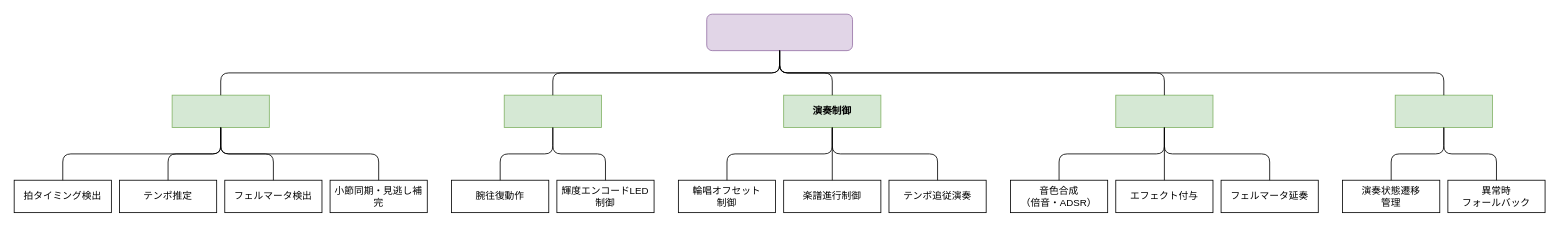
The diagram is 1559 pixels wide and 227 high, and some of its shapes have lost their labels. The box of each missing label's shape, as (x1, y1, x2, y2) in pixels:
Arduinoオーケストラシステム: (706, 13, 853, 51)
指揮動作検出: (171, 94, 269, 128)
指揮者人形動作: (503, 94, 601, 128)
状態管理: (1394, 94, 1492, 128)
音響合成: (1115, 94, 1213, 128)
